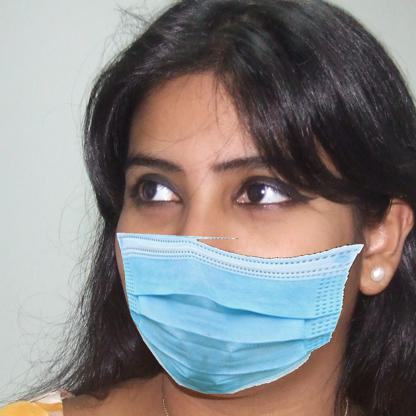mask: (114, 231, 355, 395)
